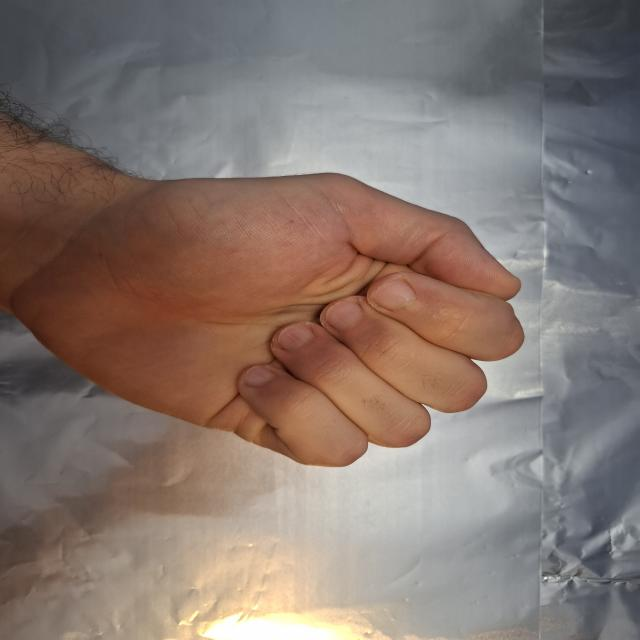glove_off: (15, 120, 529, 470)
